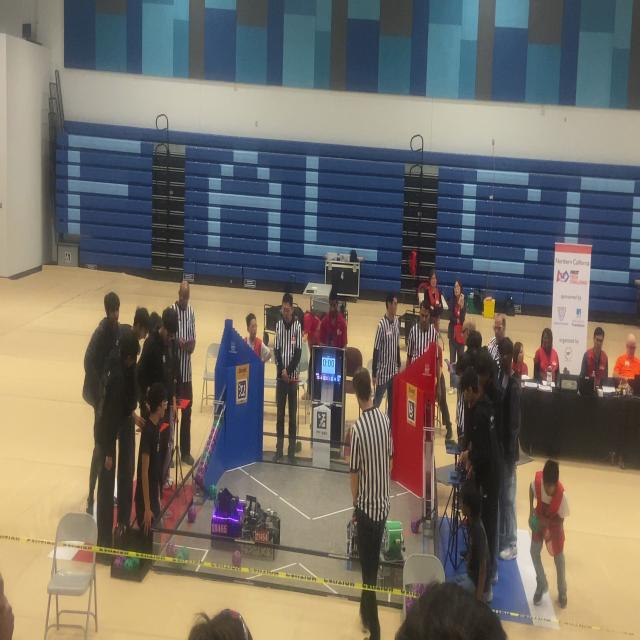artifact_green: (529, 513, 539, 533), (176, 547, 189, 560), (188, 506, 196, 523), (207, 484, 216, 499), (124, 558, 134, 570), (131, 558, 140, 570), (202, 451, 210, 462)
artifact_purple: (113, 555, 125, 569), (411, 517, 420, 534), (415, 584, 427, 596), (232, 551, 241, 567), (166, 543, 176, 557), (207, 441, 215, 458), (188, 506, 196, 523), (197, 460, 205, 476), (203, 439, 212, 452), (197, 473, 204, 488), (196, 470, 203, 485), (208, 433, 215, 445), (207, 433, 213, 445)
